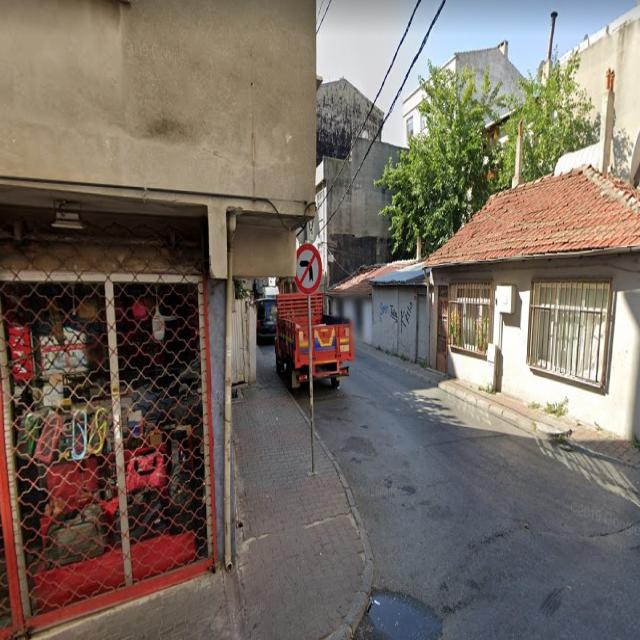soladonulmez: (294, 244, 322, 293)
